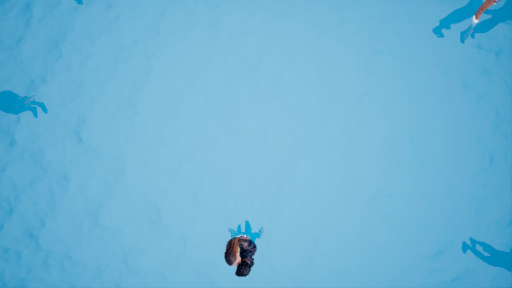person: (222, 221, 265, 277)
